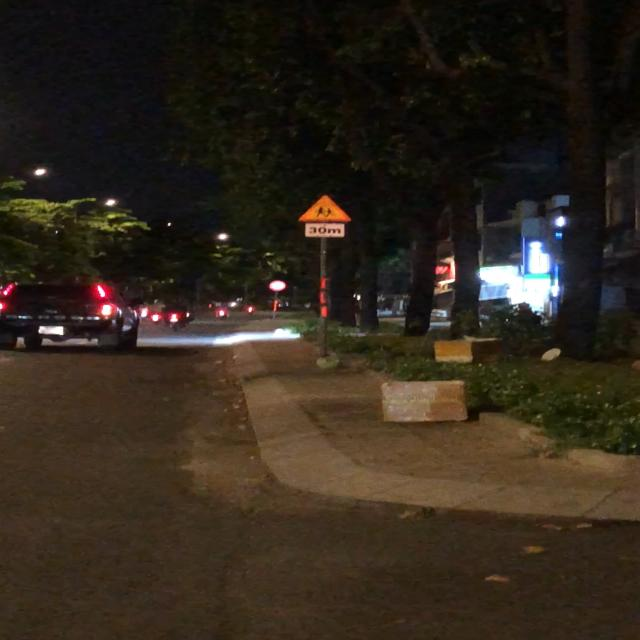Bien bao tre em: (296, 194, 352, 224)
